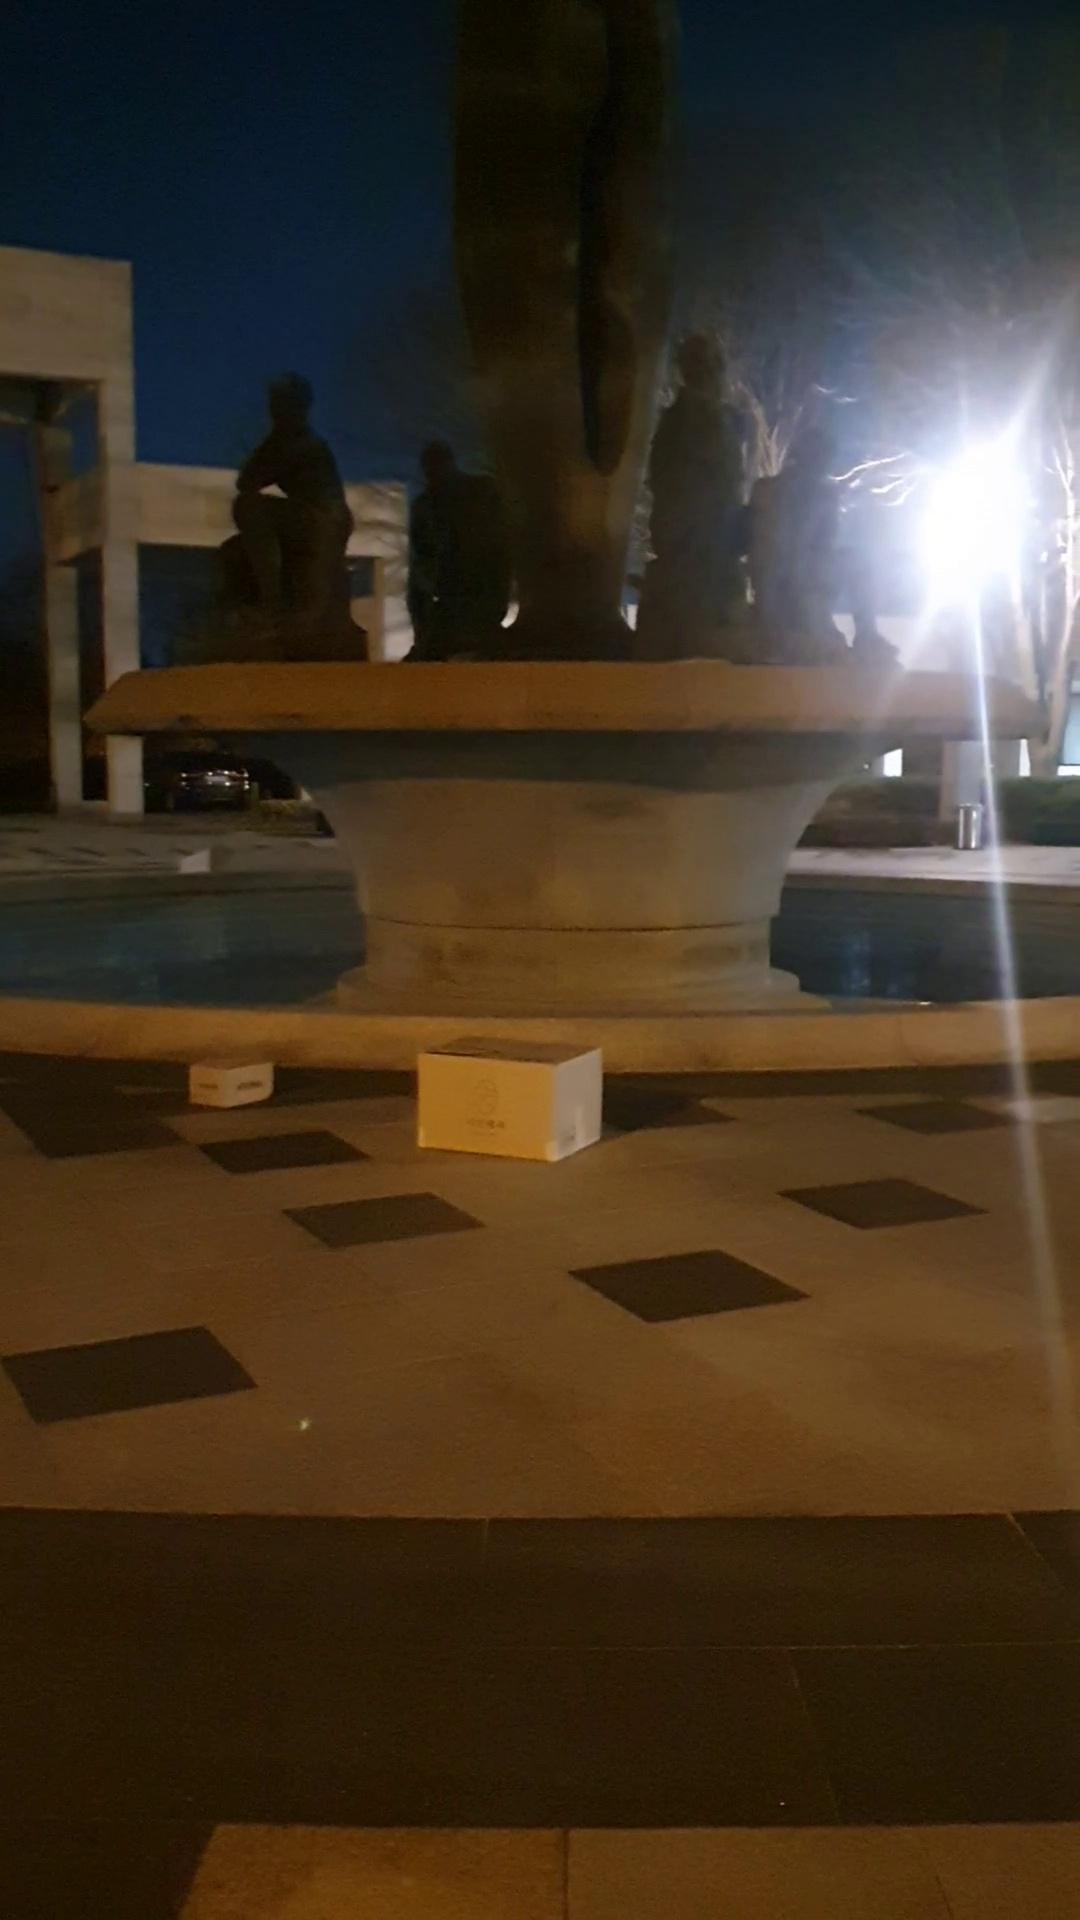Box: (411, 1033, 613, 1158), (189, 1035, 277, 1117)
